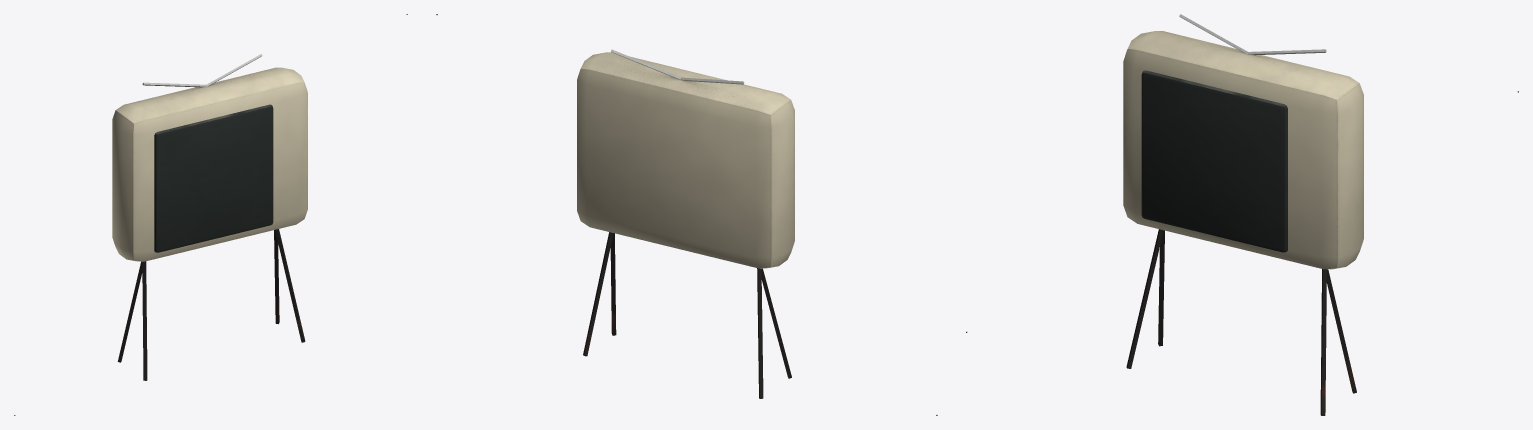
3 views of the same model, side by side, from view 1: azimuth 30°, elevation 25°; view 2: azimuth 150°, elevation 25°; view 3: azimuth 330°, elevation 25° (orthographic). The views are drawn at different scales.
Parts seen in each view (by area): view 1: H_TV__H_TV, H_TV__H_TV_Screen; view 2: H_TV__H_TV; view 3: H_TV__H_TV, H_TV__H_TV_Screen.
Part boxes in pixels (x1,y1,x2,y2): H_TV__H_TV: [14, 14, 407, 415]; H_TV__H_TV_Screen: [154, 104, 273, 252]; H_TV__H_TV: [436, 14, 937, 415]; H_TV__H_TV: [966, 14, 1518, 415]; H_TV__H_TV_Screen: [1141, 70, 1287, 252].
Bounding box in the file's own units: 640 × 406 × 75.92.
Materials: 1 (1 with a texture image).
